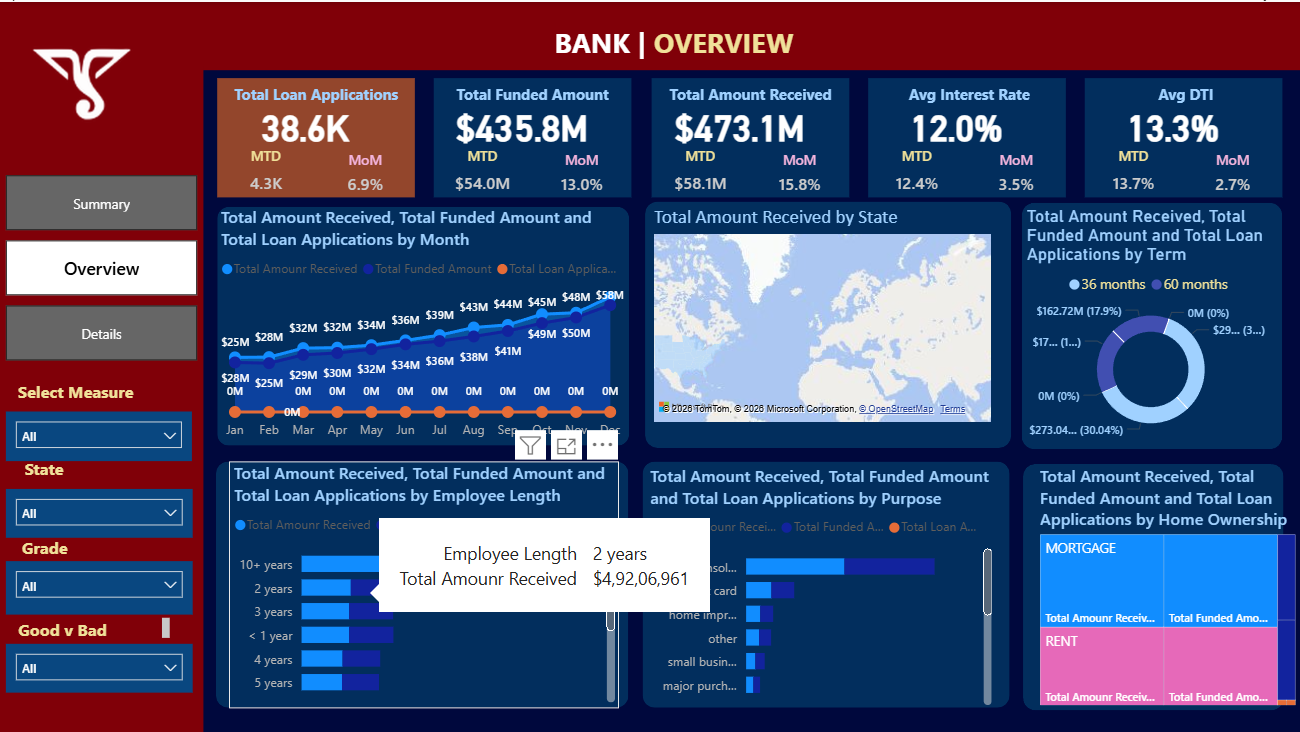

Layout of this report page (visuals, bound fields, positions):
{"tool":"powerbi","page":{"name":"Overview","canvas":[1280,720],"ordinal":1},"visuals":[{"type":"shape","box":[0,0,1279.8,67],"z":0},{"type":"shape","box":[216.2,74.5,194.4,117.2],"z":0,"group":"g1"},{"type":"shape","box":[429.2,74.5,194.4,117.2],"z":0,"group":"g2"},{"type":"shape","box":[642.2,74.5,194.4,117.2],"z":0,"group":"g3"},{"type":"shape","box":[855.2,74.5,194.4,117.2],"z":0,"group":"g4"},{"type":"shape","box":[1068.2,74.5,194.4,117.2],"z":0,"group":"g5"},{"type":"shape","box":[0,63.2,202.1,657.1],"z":1000},{"type":"card","fields":{"Values":["bank_loan_data.Total Loan Applications"]},"box":[205.4,93,192.8,55.5],"z":1000,"group":"g1"},{"type":"card","fields":{"Values":["bank_loan_data.Total Funded Amount"]},"box":[418.4,93,192.8,55.5],"z":1000,"group":"g2"},{"type":"card","fields":{"Values":["bank_loan_data.Total Amounr Received"]},"box":[631.4,93,192.8,55.5],"z":1000,"group":"g3"},{"type":"card","fields":{"Values":["bank_loan_data.Avg Interst Rate"]},"box":[844.4,93,192.8,55.5],"z":1000,"group":"g4"},{"type":"card","fields":{"Values":["bank_loan_data.Avg DTI"]},"box":[1057.4,93,192.8,55.5],"z":1000,"group":"g5"},{"type":"textbox","box":[199.2,74.5,228.3,46.3],"z":2000,"group":"g1"},{"type":"textbox","box":[412.2,74.5,228.3,46.3],"z":2000,"group":"g2"},{"type":"textbox","box":[625.2,74.5,228.3,46.3],"z":2000,"group":"g3"},{"type":"textbox","box":[838.2,74.5,228.3,46.3],"z":2000,"group":"g4"},{"type":"textbox","box":[1051.2,74.5,228.3,46.3],"z":2000,"group":"g5"},{"type":"shape","box":[215.1,201.1,405,235],"z":2000},{"type":"card","title":"MTD","fields":{"Values":["bank_loan_data.MTD Loan Application"]},"box":[226.7,142.1,74.8,58.1],"z":3000,"group":"g1"},{"type":"card","title":"MTD","fields":{"Values":["bank_loan_data.MTD Funded Amount"]},"box":[439.7,142.1,74.8,58.1],"z":3000,"group":"g2"},{"type":"card","title":"MTD","fields":{"Values":["bank_loan_data.MTD Total Amount Recievd"]},"box":[652.7,142.1,74.8,58.1],"z":3000,"group":"g3"},{"type":"card","title":"MTD","fields":{"Values":["bank_loan_data.MTD Avg Int Rate"]},"box":[865.7,142.1,74.8,58.1],"z":3000,"group":"g4"},{"type":"card","title":"MTD","fields":{"Values":["bank_loan_data.MTD Avg DTI"]},"box":[1078.7,142.1,74.8,58.1],"z":3000,"group":"g5"},{"type":"textbox","box":[433.5,15.5,461.9,59.3],"z":4000},{"type":"card","title":"MoM","fields":{"Values":["bank_loan_data.MOM Loan Application"]},"box":[324.1,145.5,74,50.9],"z":4000,"group":"g1"},{"type":"card","title":"MoM","fields":{"Values":["bank_loan_data.MOM Total Funded Amount"]},"box":[537.1,145.5,74,50.9],"z":4000,"group":"g2"},{"type":"card","title":"MoM","fields":{"Values":["bank_loan_data.MOM Total Amount Recived"]},"box":[750.1,145.5,74,50.9],"z":4000,"group":"g3"},{"type":"card","title":"MoM","fields":{"Values":["bank_loan_data.MOM Avg Int rate"]},"box":[963.1,145.5,74,50.9],"z":4000,"group":"g4"},{"type":"card","title":"MoM","fields":{"Values":["bank_loan_data.MOM Avg DTI"]},"box":[1176.1,145.5,74,50.9],"z":4000,"group":"g5"},{"type":"group","id":"g1","title":"Group 1","box":[199.2,74.5,228.6,124.7],"z":5000},{"type":"group","id":"g2","title":"Group 1","box":[412.2,74.5,228.6,126.4],"z":6000},{"type":"group","id":"g3","title":"Group 1","box":[625.2,74.5,228.6,124.7],"z":7000},{"type":"group","id":"g4","title":"Group 1","box":[838.2,74.5,228.6,126.4],"z":8000},{"type":"group","id":"g5","title":"Group 1","box":[1051.2,74.5,228.6,126.4],"z":9000},{"type":"slicer","fields":{"Values":["bank_loan_data.address_state"]},"box":[7.7,478.2,183.6,47.8],"z":10000},{"type":"textbox","box":[17,442.7,64.8,35.5],"z":11000},{"type":"slicer","fields":{"Values":["bank_loan_data.grade"]},"box":[7.7,549.1,183.6,52.4],"z":12000},{"type":"textbox","box":[13.9,519.8,87.9,43.2],"z":13000},{"type":"slicer","fields":{"Values":["bank_loan_data.Good v Bad Loan "]},"box":[7.7,630.9,183.6,47.8],"z":14000},{"type":"textbox","box":[10.8,600,163.5,30.9],"z":15000},{"type":"areaChart","title":"Total Amount Received, Total Funded Amount and Total Loan Applications by Month","fields":{"Y":["bank_loan_data.Total Amount Received","bank_loan_data.Total Funded Amount","bank_loan_data.Total Loan Applications"],"Category":["Date Table.Month"]},"box":[214.4,200.5,405.7,239.1],"z":16000},{"type":"slicer","fields":{"Values":["Select Measure.Select Measure"]},"box":[7.7,402.5,183.2,49],"z":17000},{"type":"textbox","box":[10.3,366.4,183.2,36.1],"z":18000},{"type":"shape","box":[635.5,195.9,360,242.2],"z":19000},{"type":"filledMap","title":"Total Amount Received by  State","fields":{"X":["bank_loan_data.Total Amount Received"],"Category":["bank_loan_data.address_state"]},"box":[640.1,200.5,340.9,217.5],"z":20000},{"type":"shape","box":[1005.7,197.4,256.1,242.2],"z":21000},{"type":"donutChart","title":"Total Amount Received, Total Funded Amount and Total Loan Applications by Term","fields":{"Y":["bank_loan_data.Total Amount Received","bank_loan_data.Total Funded Amount","bank_loan_data.Total Loan Applications"],"Category":["bank_loan_data.term"]},"box":[1005.7,200.5,253,236],"z":22000},{"type":"shape","box":[214.4,452,405.7,242.2],"z":23000},{"type":"barChart","title":"Total Amount Received, Total Funded Amount and Total Loan Applications by Employee Length","fields":{"Y":["bank_loan_data.Total Amount Received","bank_loan_data.Total Funded Amount","bank_loan_data.Total Loan Applications"],"Category":["bank_loan_data.emp_length"]},"box":[226.8,452,384.1,242.2],"z":24000},{"type":"shape","box":[634,452,361,242.2],"z":25000},{"type":"barChart","title":"Total Amount Received, Total Funded Amount and Total Loan Applications by Purpose","fields":{"Y":["bank_loan_data.Total Amount Received","bank_loan_data.Total Funded Amount","bank_loan_data.Total Loan Applications"],"Category":["bank_loan_data.purpose"]},"box":[635.5,453.5,345.5,242.2],"z":26000},{"type":"shape","box":[1007.3,453.5,256.1,242.2],"z":27000},{"type":"treemap","title":"Total Amount Received, Total Funded Amount and Total Loan Applications by  Home Ownership","fields":{"Values":["bank_loan_data.Total Amount Received","bank_loan_data.Total Funded Amount","bank_loan_data.Total Loan Applications"],"Group":["bank_loan_data.home_ownership"]},"box":[1019.3,453.5,260.7,242.2],"z":28000},{"type":"pageNavigator","box":[7.7,170.3,188.4,183.2],"z":29000},{"type":"image","box":[0,0,163.8,161.3],"z":30000}]}

Visuals, with their boxes on the page's 1280x720 design canvas (x1, y1, x2, y2). These are canvas units, not pixel positions in the 1300x732 screenshot, which may show the page scaled, cropped or inside an application window:
shape: l=0, t=0, r=1280, b=67
shape: l=216, t=74, r=411, b=192
shape: l=429, t=74, r=624, b=192
shape: l=642, t=74, r=837, b=192
shape: l=855, t=74, r=1050, b=192
shape: l=1068, t=74, r=1263, b=192
shape: l=0, t=63, r=202, b=720
card - bank_loan_data.Total Loan Applications: l=205, t=93, r=398, b=148
card - bank_loan_data.Total Funded Amount: l=418, t=93, r=611, b=148
card - bank_loan_data.Total Amounr Received: l=631, t=93, r=824, b=148
card - bank_loan_data.Avg Interst Rate: l=844, t=93, r=1037, b=148
card - bank_loan_data.Avg DTI: l=1057, t=93, r=1250, b=148
textbox: l=199, t=74, r=428, b=121
textbox: l=412, t=74, r=640, b=121
textbox: l=625, t=74, r=854, b=121
textbox: l=838, t=74, r=1066, b=121
textbox: l=1051, t=74, r=1280, b=121
shape: l=215, t=201, r=620, b=436
"MTD" card: l=227, t=142, r=302, b=200
"MTD" card: l=440, t=142, r=514, b=200
"MTD" card: l=653, t=142, r=728, b=200
"MTD" card: l=866, t=142, r=940, b=200
"MTD" card: l=1079, t=142, r=1154, b=200
textbox: l=434, t=16, r=895, b=75
"MoM" card: l=324, t=146, r=398, b=196
"MoM" card: l=537, t=146, r=611, b=196
"MoM" card: l=750, t=146, r=824, b=196
"MoM" card: l=963, t=146, r=1037, b=196
"MoM" card: l=1176, t=146, r=1250, b=196
"Group 1" group: l=199, t=74, r=428, b=199
"Group 1" group: l=412, t=74, r=641, b=201
"Group 1" group: l=625, t=74, r=854, b=199
"Group 1" group: l=838, t=74, r=1067, b=201
"Group 1" group: l=1051, t=74, r=1280, b=201
slicer - bank_loan_data.address_state: l=8, t=478, r=191, b=526
textbox: l=17, t=443, r=82, b=478
slicer - bank_loan_data.grade: l=8, t=549, r=191, b=602
textbox: l=14, t=520, r=102, b=563
slicer - bank_loan_data.Good v Bad Loan : l=8, t=631, r=191, b=679
textbox: l=11, t=600, r=174, b=631
"Total Amount Received, Total Funded Amount and Total Loan Applications by Month" areaChart: l=214, t=200, r=620, b=440
slicer - Select Measure.Select Measure: l=8, t=402, r=191, b=452
textbox: l=10, t=366, r=194, b=402
shape: l=636, t=196, r=996, b=438
"Total Amount Received by  State" filledMap: l=640, t=200, r=981, b=418
shape: l=1006, t=197, r=1262, b=440
"Total Amount Received, Total Funded Amount and Total Loan Applications by Term" donutChart: l=1006, t=200, r=1259, b=436
shape: l=214, t=452, r=620, b=694
"Total Amount Received, Total Funded Amount and Total Loan Applications by Employee Length" barChart: l=227, t=452, r=611, b=694
shape: l=634, t=452, r=995, b=694
"Total Amount Received, Total Funded Amount and Total Loan Applications by Purpose" barChart: l=636, t=454, r=981, b=696
shape: l=1007, t=454, r=1263, b=696
"Total Amount Received, Total Funded Amount and Total Loan Applications by  Home Ownership" treemap: l=1019, t=454, r=1280, b=696
pageNavigator: l=8, t=170, r=196, b=354
image: l=0, t=0, r=164, b=161
